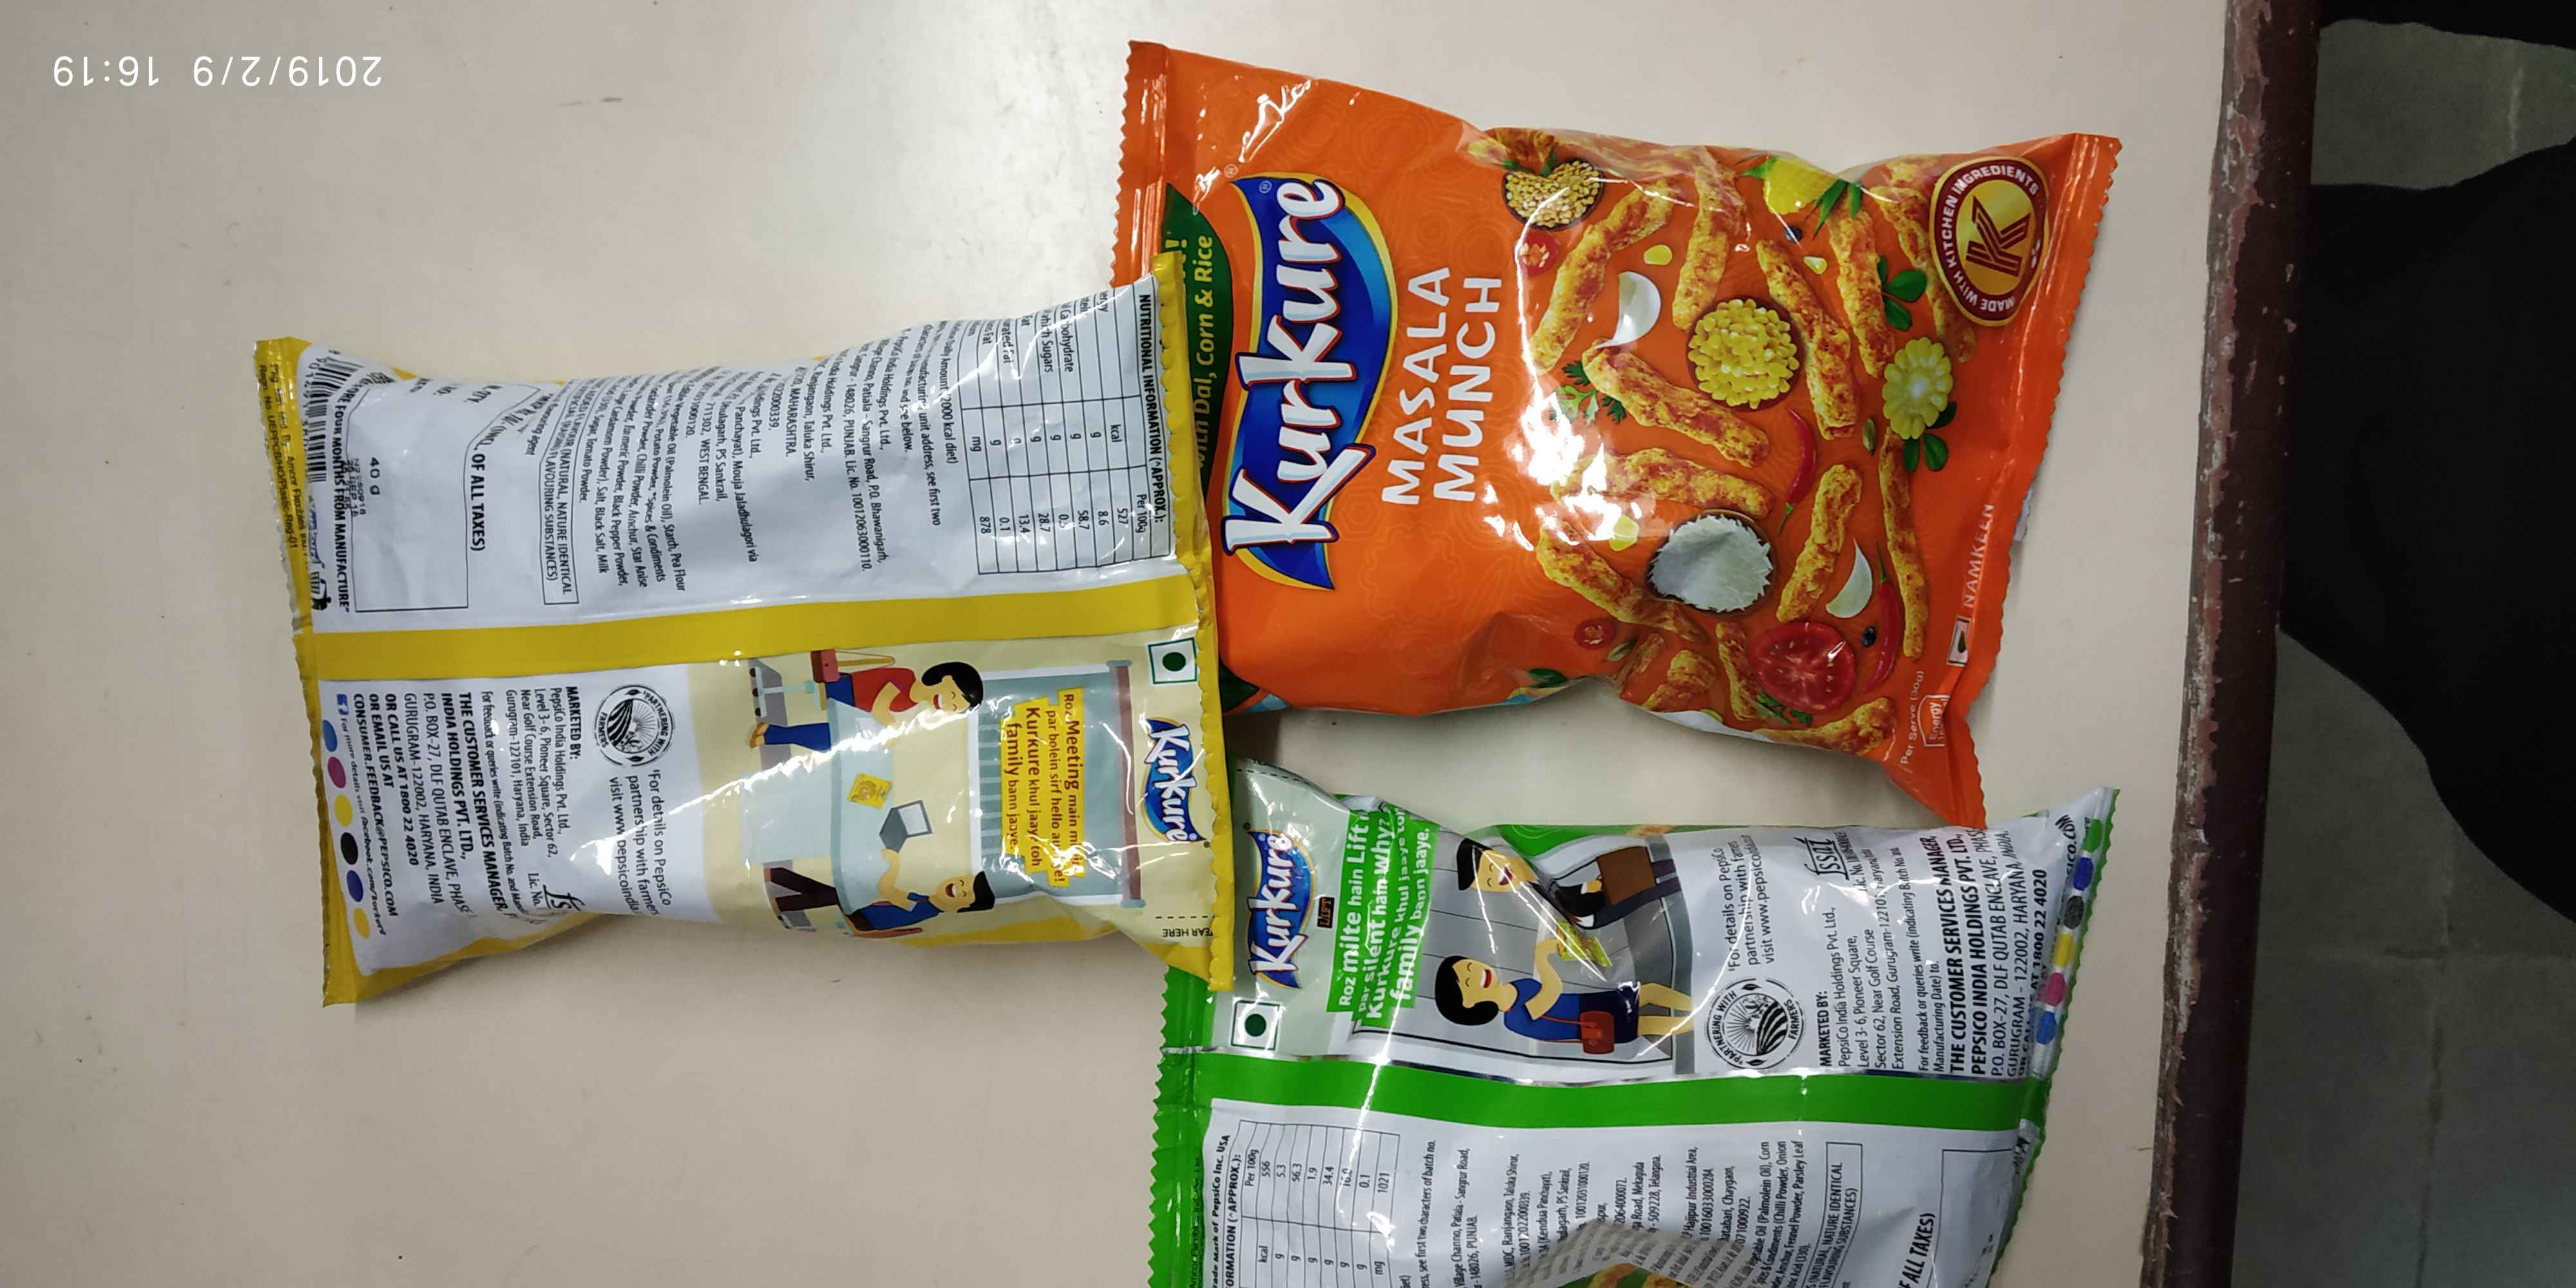kurkure: (1214, 138, 1396, 598), (1240, 800, 1314, 987), (1142, 703, 1206, 856)
